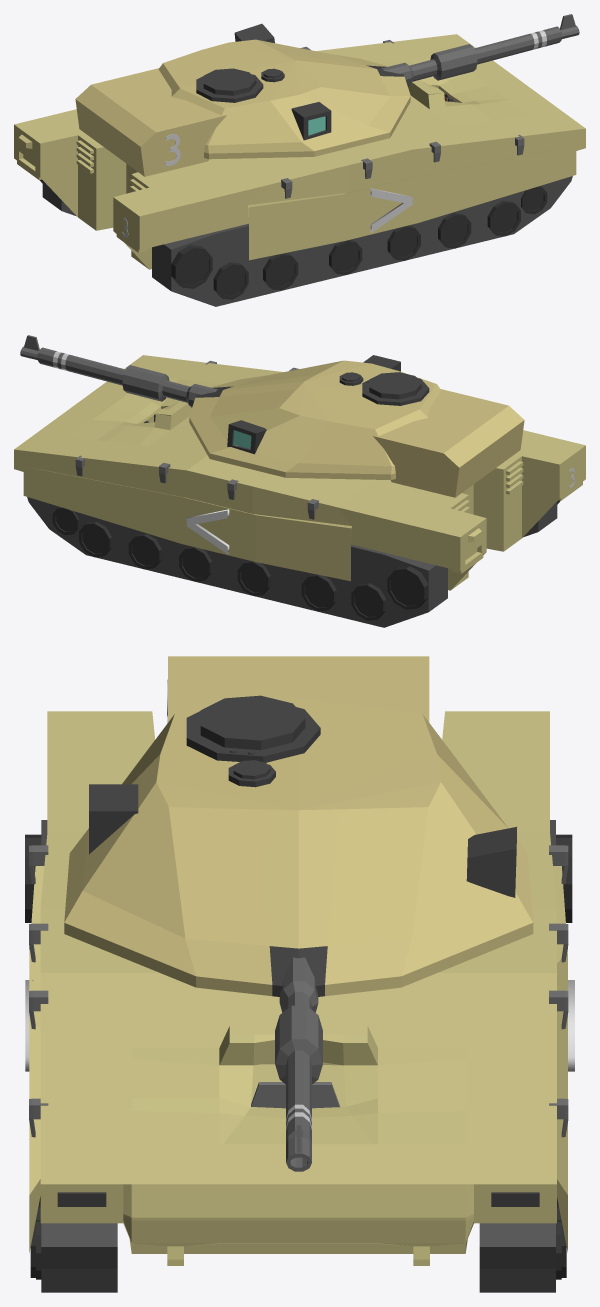
The model's file is MERKAVA MK4.fbx.
The picture shows the model from 3 angles, top to bottom: view 1: azimuth 30°, elevation 25°; view 2: azimuth 150°, elevation 25°; view 3: azimuth 270°, elevation 25°; orthographic projection. The views are drawn at different scales.
Visible parts, largest first — view 1: Cube, Circle, Cube.001, Cylinder, Circle.001, Text; view 2: Cube, Circle, Cube.001, Cylinder, Circle.001, Text.001; view 3: Cube, Circle, Cube.001, Circle.001, Cylinder, Cube.005.
Part boxes in pixels (x1=…): Cube: x1=14, y1=34, x2=585, y2=269; Circle: x1=75, y1=39, x2=410, y2=176; Cube.001: x1=39, y1=176, x2=572, y2=306; Cylinder: x1=381, y1=14, x2=579, y2=86; Circle.001: x1=196, y1=23, x2=331, y2=140; Text: x1=370, y1=188, x2=412, y2=232; Cube: x1=14, y1=355, x2=585, y2=590; Circle: x1=189, y1=360, x2=524, y2=497; Cube.001: x1=27, y1=497, x2=559, y2=627; Cylinder: x1=20, y1=335, x2=218, y2=407; Circle.001: x1=227, y1=355, x2=429, y2=454; Text.001: x1=186, y1=509, x2=229, y2=554; Cube: x1=29, y1=711, x2=568, y2=1265; Circle: x1=64, y1=656, x2=533, y2=996; Cube.001: x1=25, y1=820, x2=572, y2=1292; Circle.001: x1=89, y1=695, x2=516, y2=897; Cylinder: x1=275, y1=957, x2=322, y2=1171; Cube.005: x1=251, y1=1082, x2=339, y2=1108.
Size of the model in its own units: 1008 by 330 by 476.
